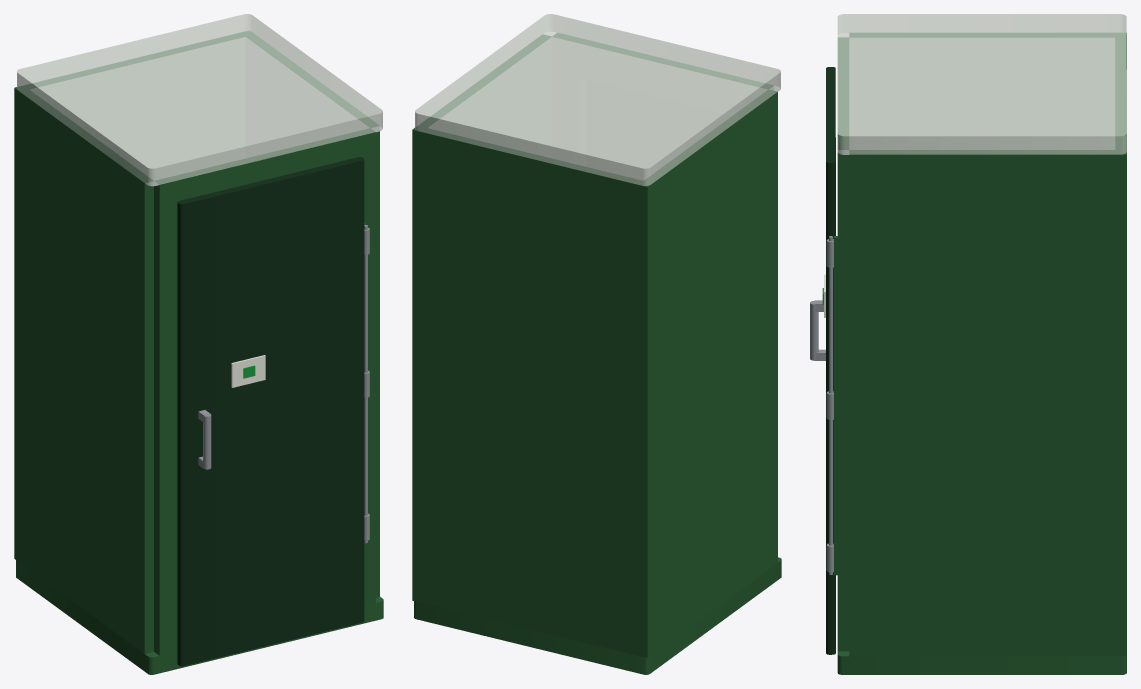
The model's file is toilet.glb.
3 views of the same model, side by side, from view 1: azimuth 30°, elevation 25°; view 2: azimuth 150°, elevation 25°; view 3: azimuth 270°, elevation 25° (orthographic). The views are drawn at different scales.
Parts seen in each view (by area): view 1: cabin, door; view 2: cabin; view 3: cabin, door.
Part boxes in pixels (x1,y1,x2,y2): cabin: (14,14,383,674); door: (177,157,369,666); cabin: (412,14,781,674); cabin: (833,14,1126,674); door: (810,67,835,654).
Bounding box in the file's own units: 1.12 × 2.3 × 1.23.
